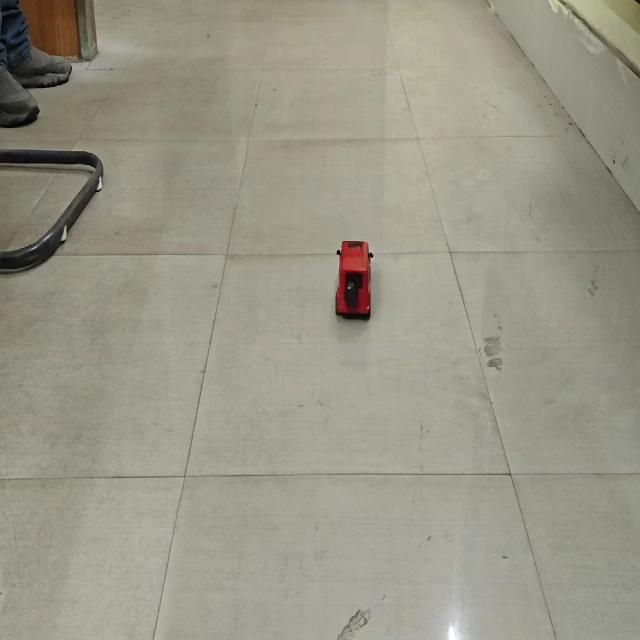light_vehicle: (330, 234, 375, 318)
